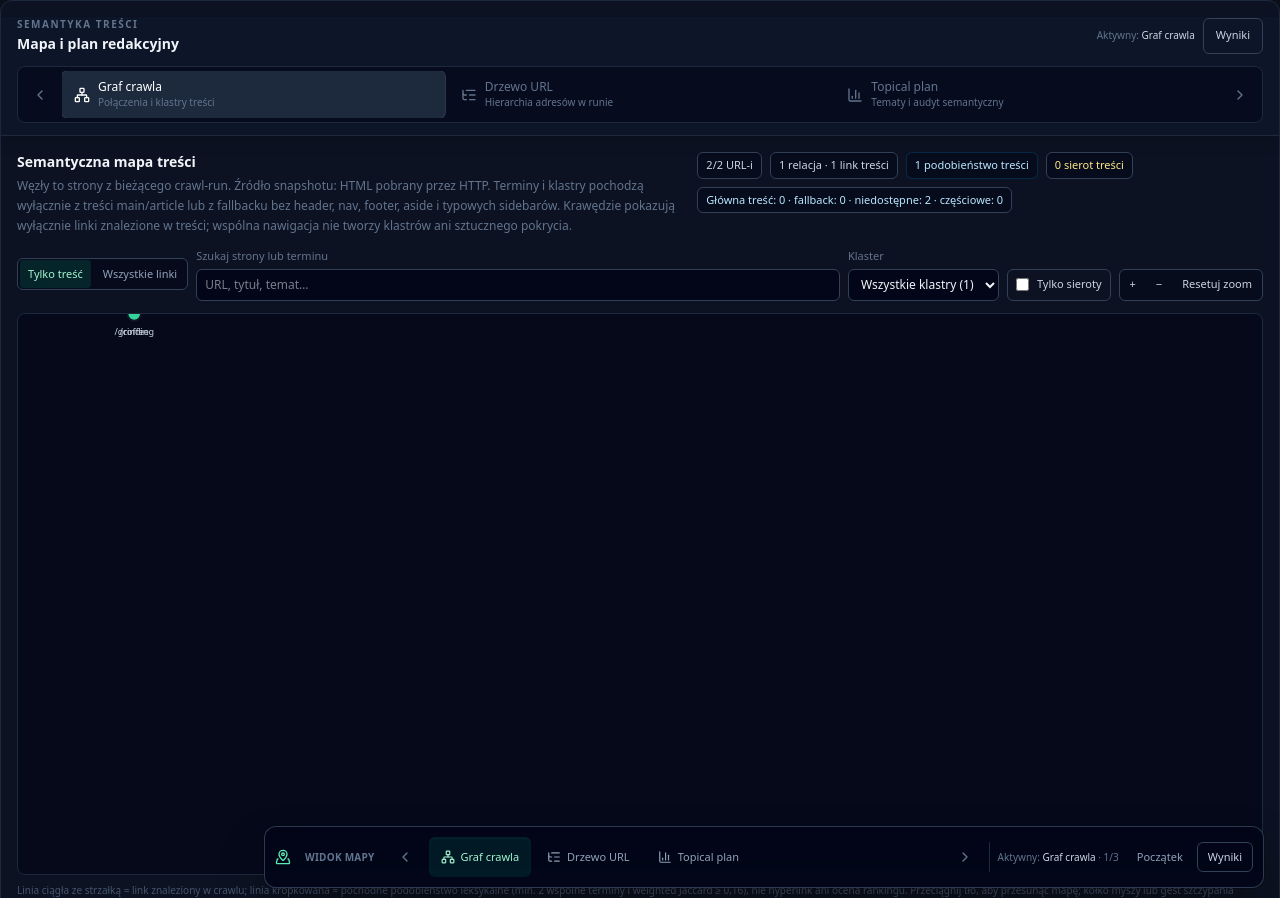
Test: CrawlArchitectureGraph › filters the graph and accessible page list by content term
Type "burr" into the field named "Szukaj strony lub terminu na mapie". click: (518, 284)
box: [196, 268, 840, 300]
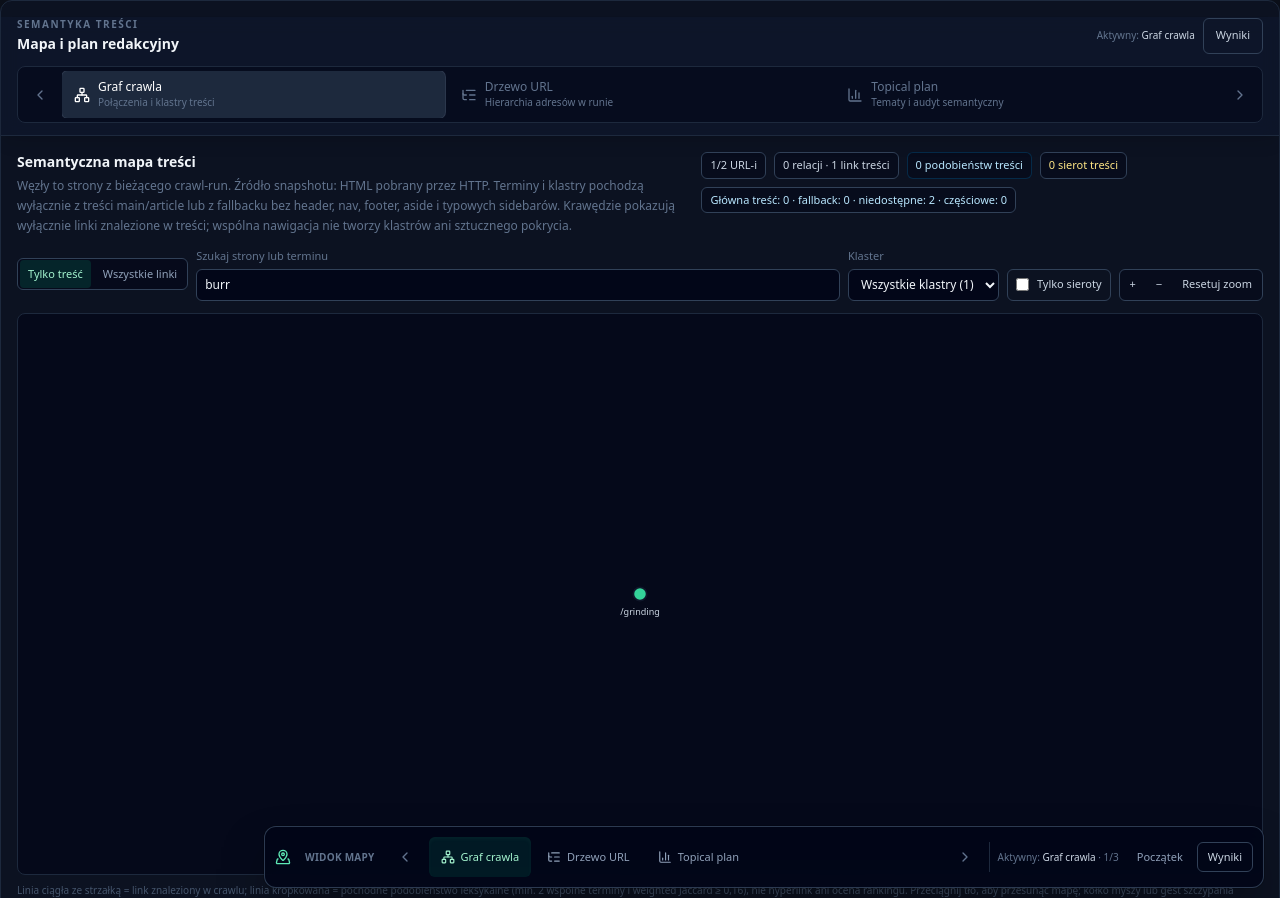
Expected: the text "1/2 URL-i" is shown, [701, 152, 766, 178]
Expected: the picture "/coffee" is gone
